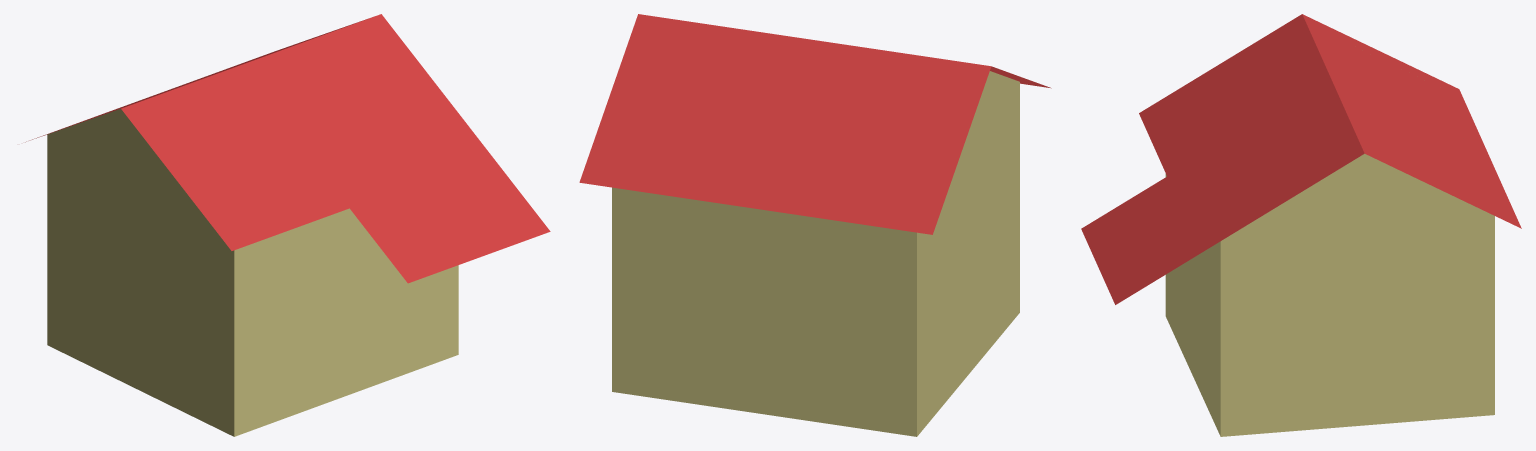
3 renders of one model, left to right at view 1: azimuth 30°, elevation 25°; view 2: azimuth 150°, elevation 25°; view 3: azimuth 270°, elevation 25°, orthographic. The views are drawn at different scales.
Bounding box in the file's own units: 13.29 × 14.38 × 10.14.
